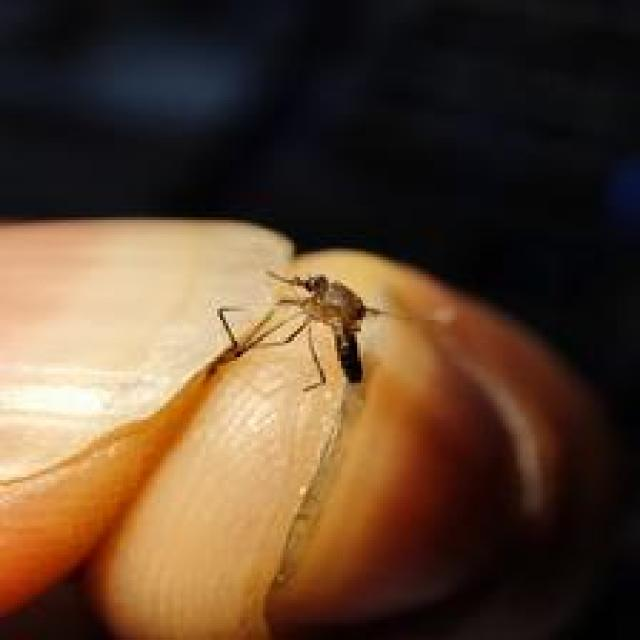Culex: (216, 266, 453, 394)
